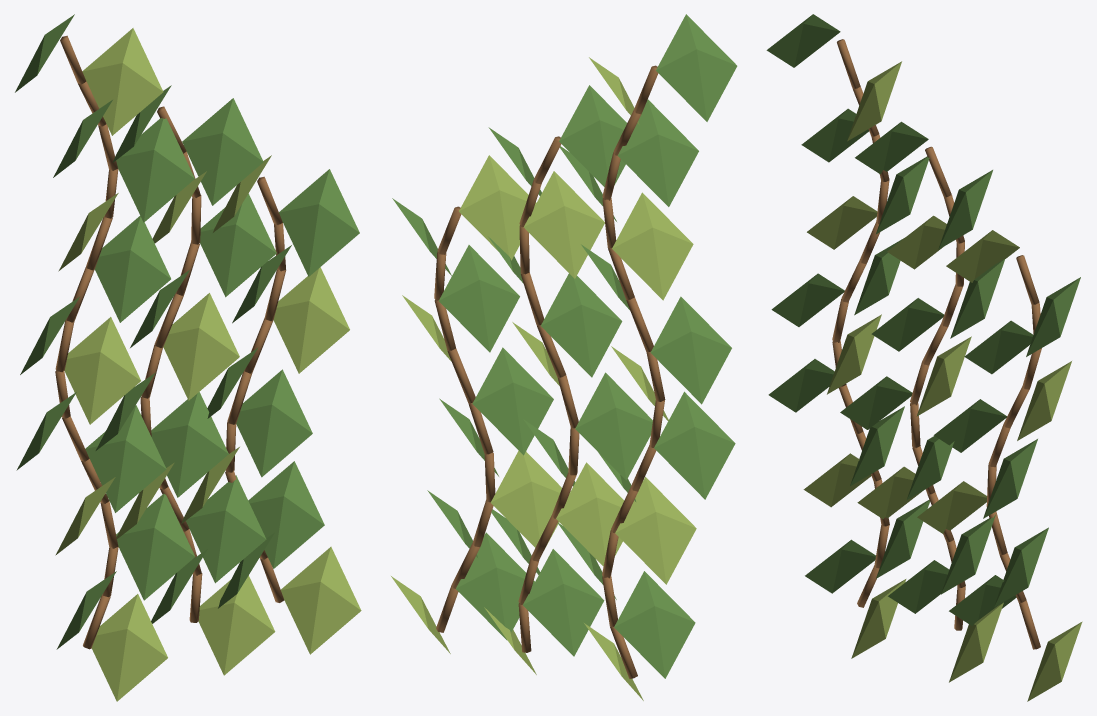
The model's file is ivy_wall.glb.
3 views of the same model, side by side, from view 1: azimuth 30°, elevation 25°; view 2: azimuth 150°, elevation 25°; view 3: azimuth 330°, elevation 25° (orthographic). The views are drawn at different scales.
Parts seen in each view (by area): view 1: ivy_wall; view 2: ivy_wall; view 3: ivy_wall.
Part boxes in pixels (<box>): ivy_wall: <box>15,14,361,701</box>; ivy_wall: <box>391,14,737,700</box>; ivy_wall: <box>766,14,1082,701</box>.
Size of the model in its own units: 1.08 by 2.22 by 0.1912.
